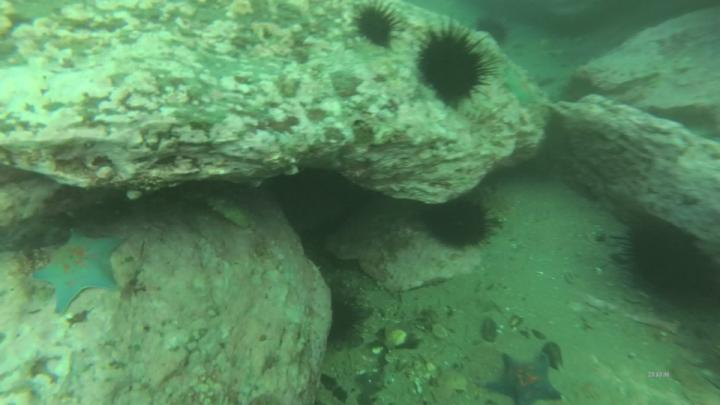echinus: (610, 204, 720, 317), (416, 25, 487, 113), (424, 191, 491, 253), (324, 293, 379, 353), (353, 4, 405, 52)
holothurian: (199, 189, 261, 231)
starfish: (28, 226, 135, 320), (483, 348, 564, 405), (499, 64, 544, 109)
